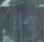bike lane: (4, 1, 37, 41)
